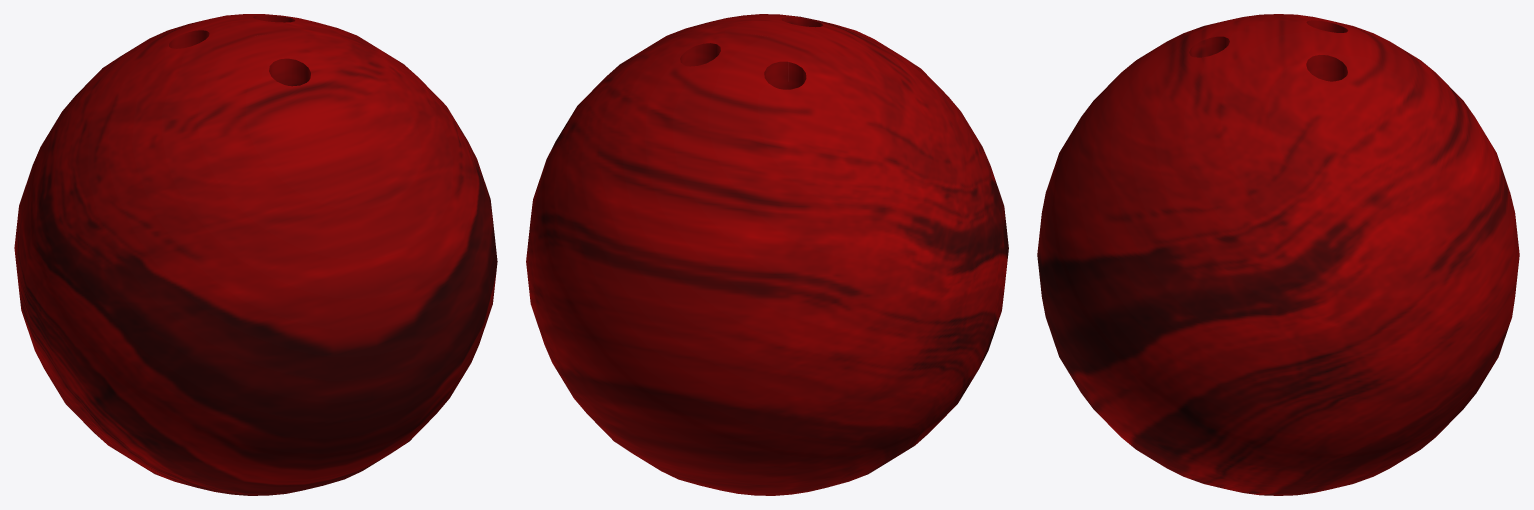
File: SM_Ball.fbx
3 views of the same model, side by side, from view 1: azimuth 30°, elevation 25°; view 2: azimuth 150°, elevation 25°; view 3: azimuth 270°, elevation 25° (orthographic).
Parts seen in each view (by area): view 1: SM_Ball; view 2: SM_Ball; view 3: SM_Ball.
Part boxes in pixels (<box>): SM_Ball: <box>14,14,497,495</box>; SM_Ball: <box>526,14,1008,495</box>; SM_Ball: <box>1037,14,1519,495</box>.
Size of the model in its own units: 20 by 20 by 20.
Materials: 1 (1 with a texture image).
